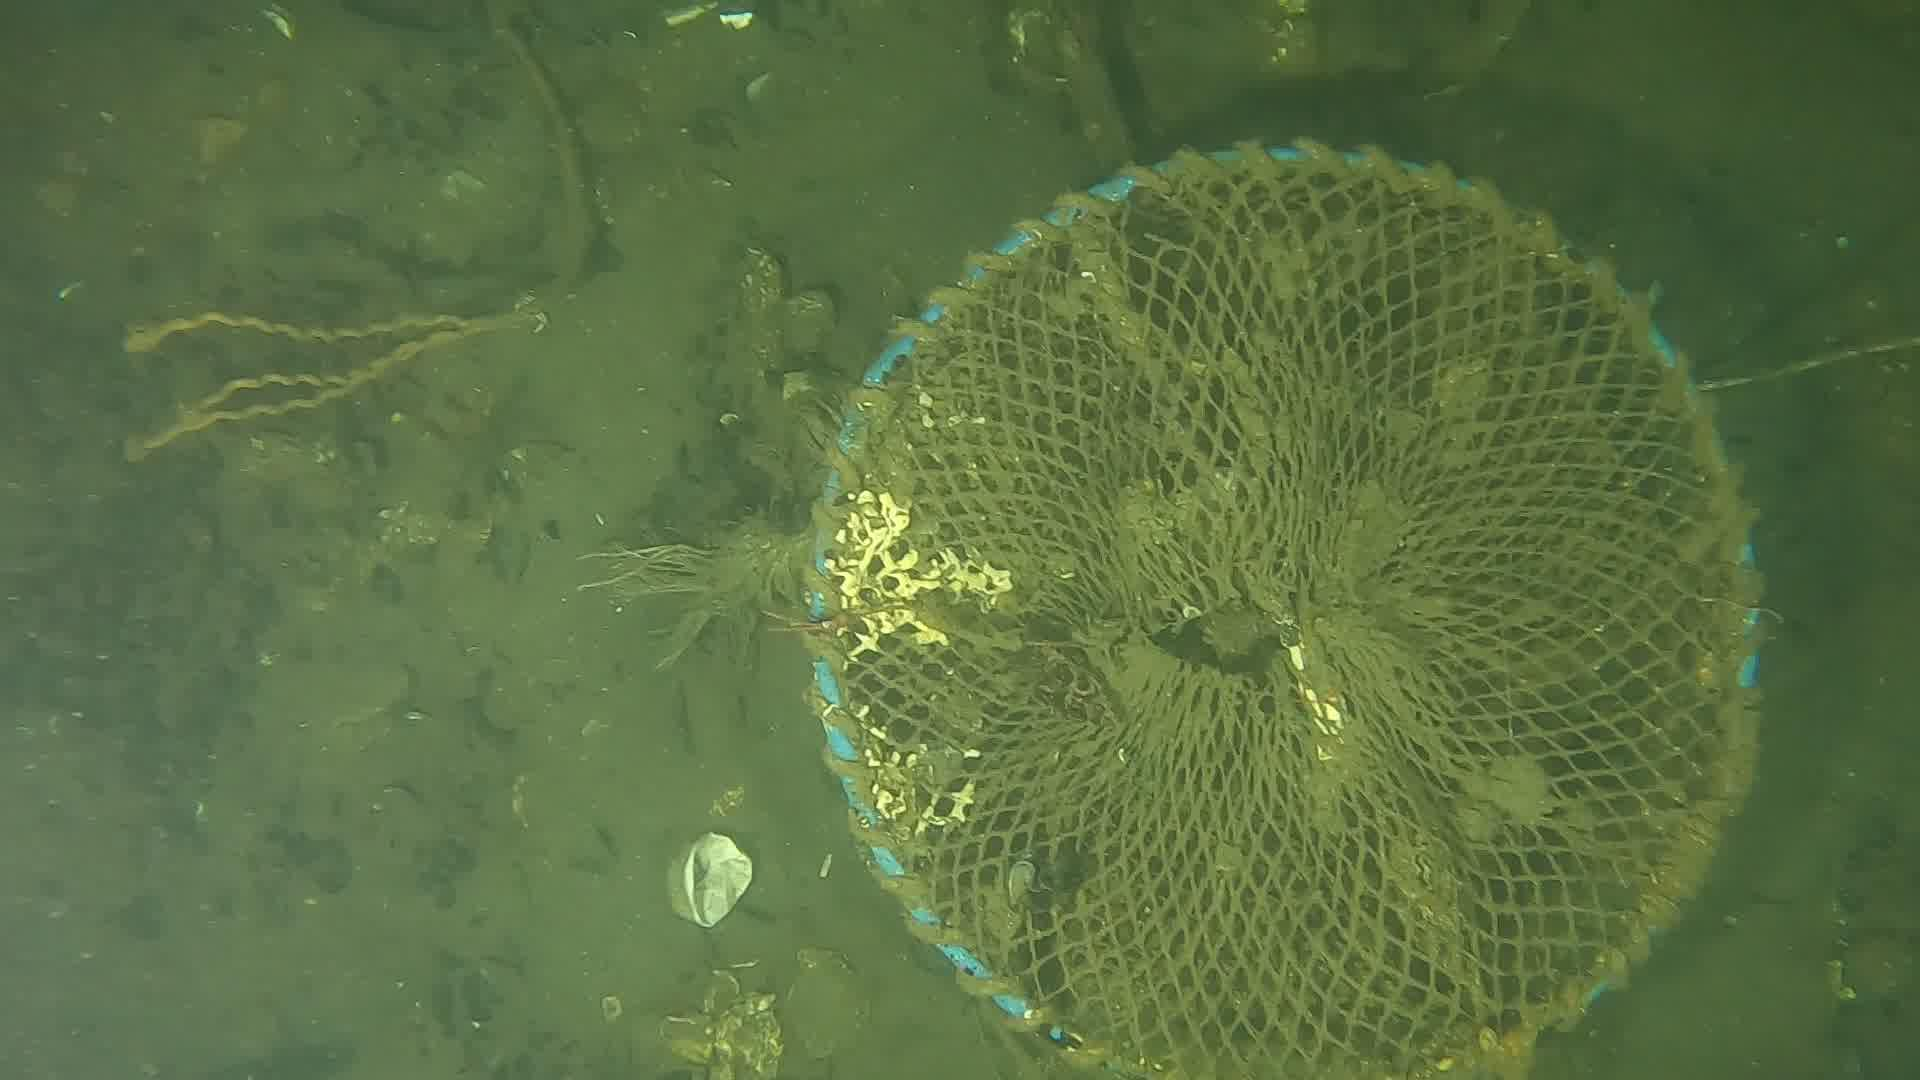circular fish trap: (796, 136, 1768, 1080)
